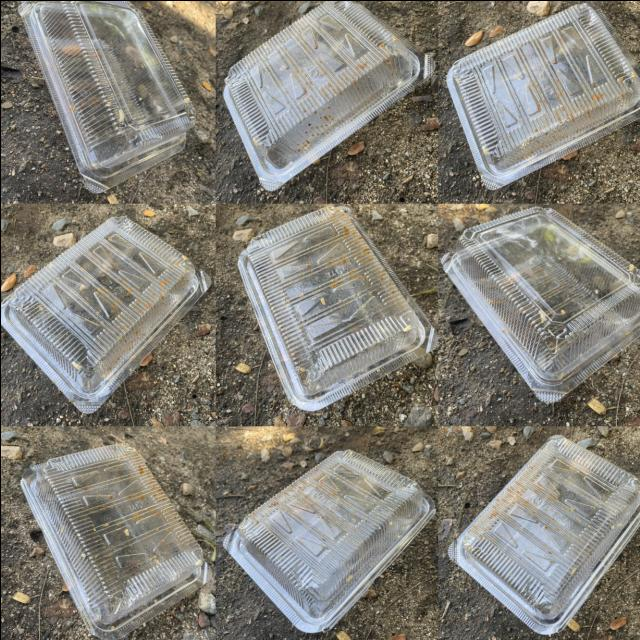plastik: (0, 216, 210, 412), (237, 206, 436, 410), (223, 0, 434, 190), (439, 206, 640, 402), (222, 450, 434, 632), (447, 434, 640, 633), (446, 2, 640, 189), (20, 443, 205, 639), (17, 0, 194, 192), (273, 206, 376, 251)
